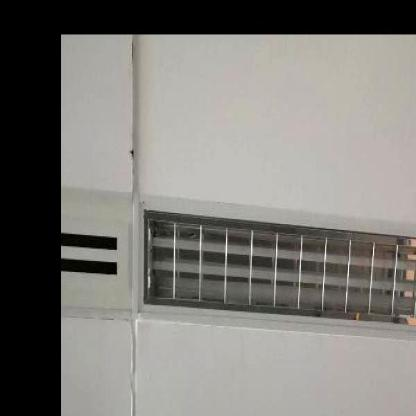light_off: (130, 178, 416, 344)
